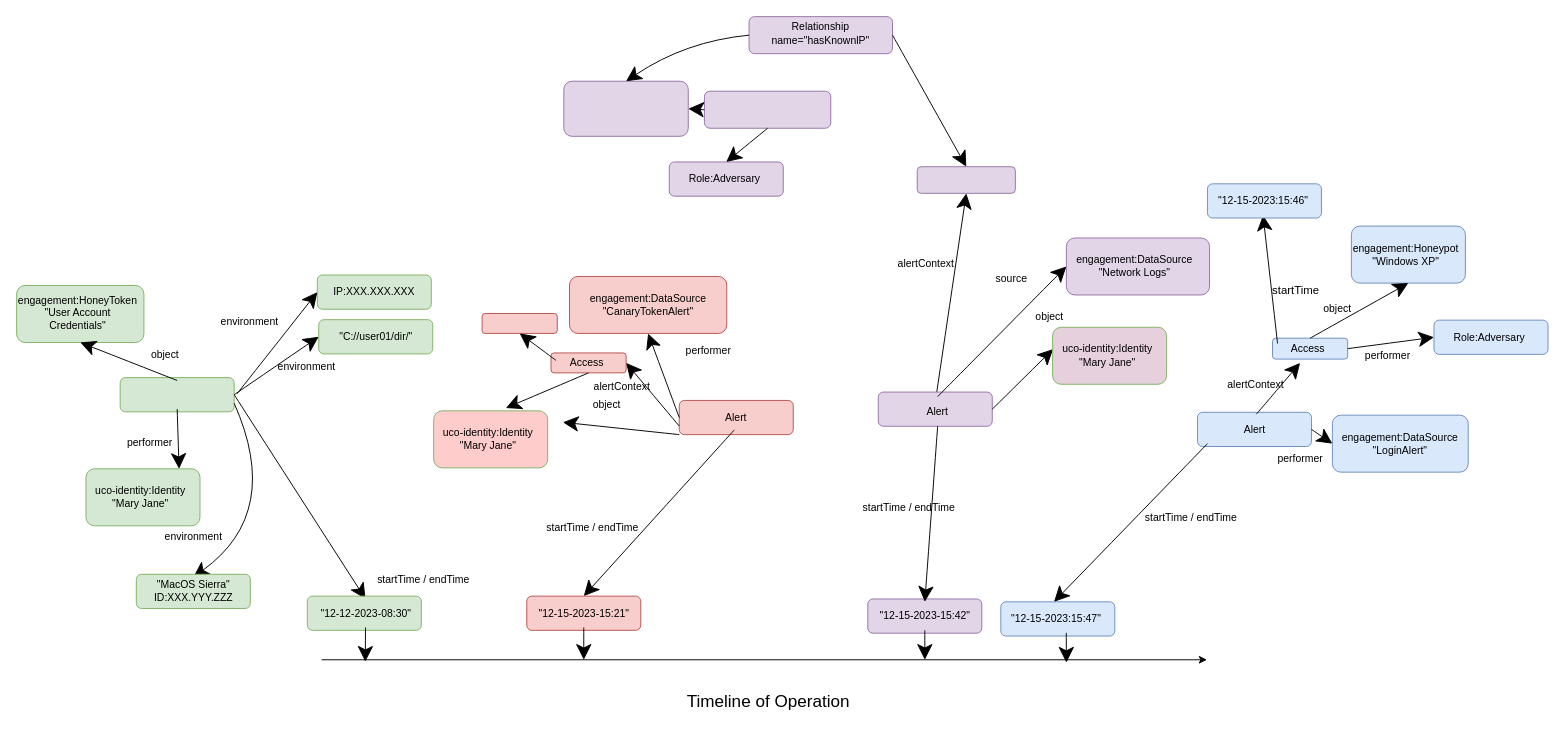
The diagram is 1565 pixels wide and 734 high, and some of its shapes have lost their labels. The box of each missing label's shape, as (x1, y1, x2, y2) in pixels:
AdvIP: (916, 166, 1015, 193)
Deploy: (119, 377, 234, 412)
File: (481, 313, 557, 333)
Relationship name="hasRole": (703, 90, 831, 128)
uco-identity:Identity "Bob Smith": (563, 80, 688, 136)
